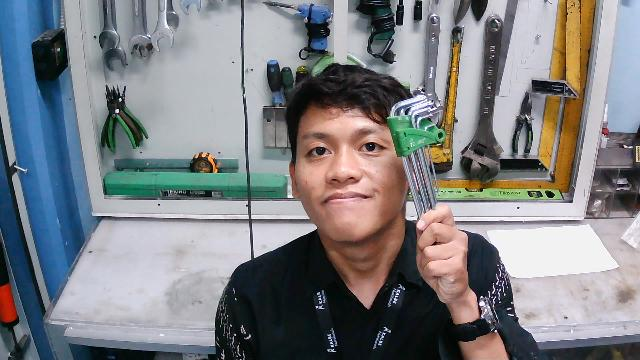kunci_l_bintang: (381, 95, 461, 245)
